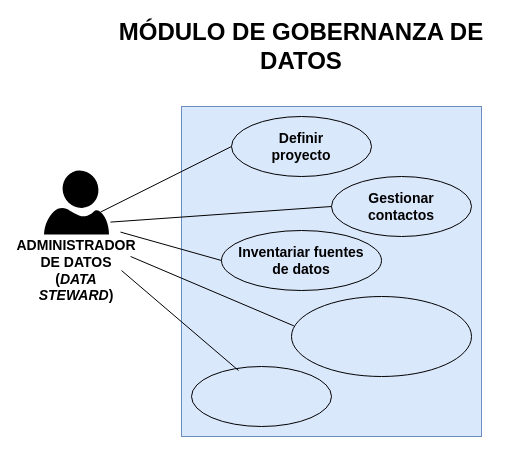
This 529x454 diagram has some shape labels left out. The box of each missing label's shape, as (x1, y1, x2, y2) in pixels:
Caracterizar datos: (190, 366, 332, 426)
Descubrir metadatos (generar diccionario de datos): (290, 296, 472, 376)
